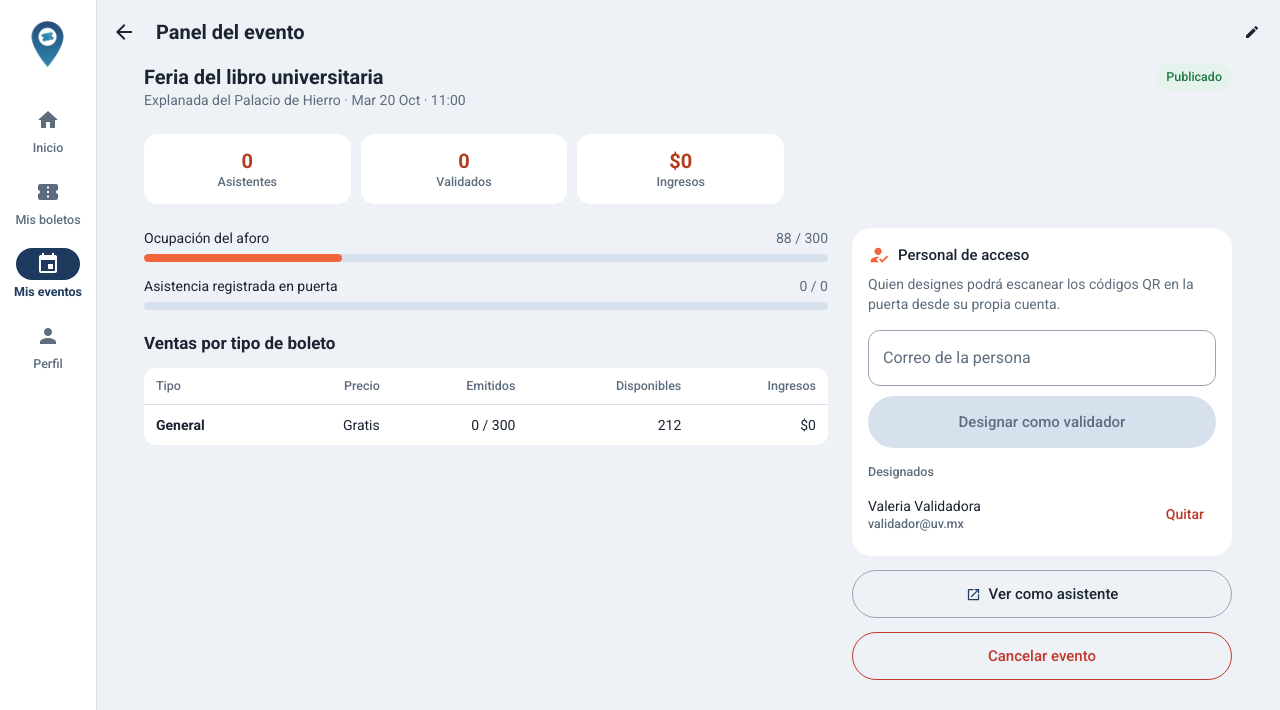
Test: organizador (RF-08, RF-13, RF-14, RF-17) › designa personal de acceso por correo
Type "asistente@uv.mx" into the field labelled "Correo de la persona". click: (1042, 358)
box: [869,331,1215,385]
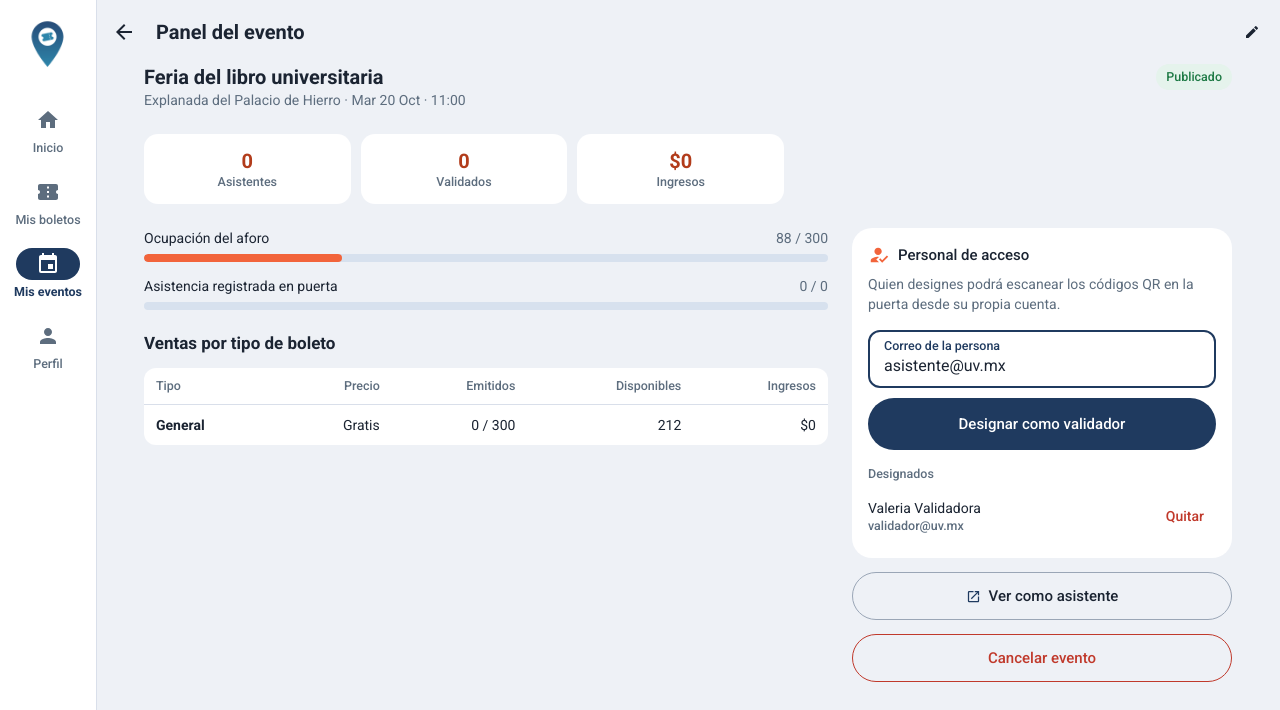
Click the button "Designar como validador". click: (1042, 424)
box: [868,398,1216,450]
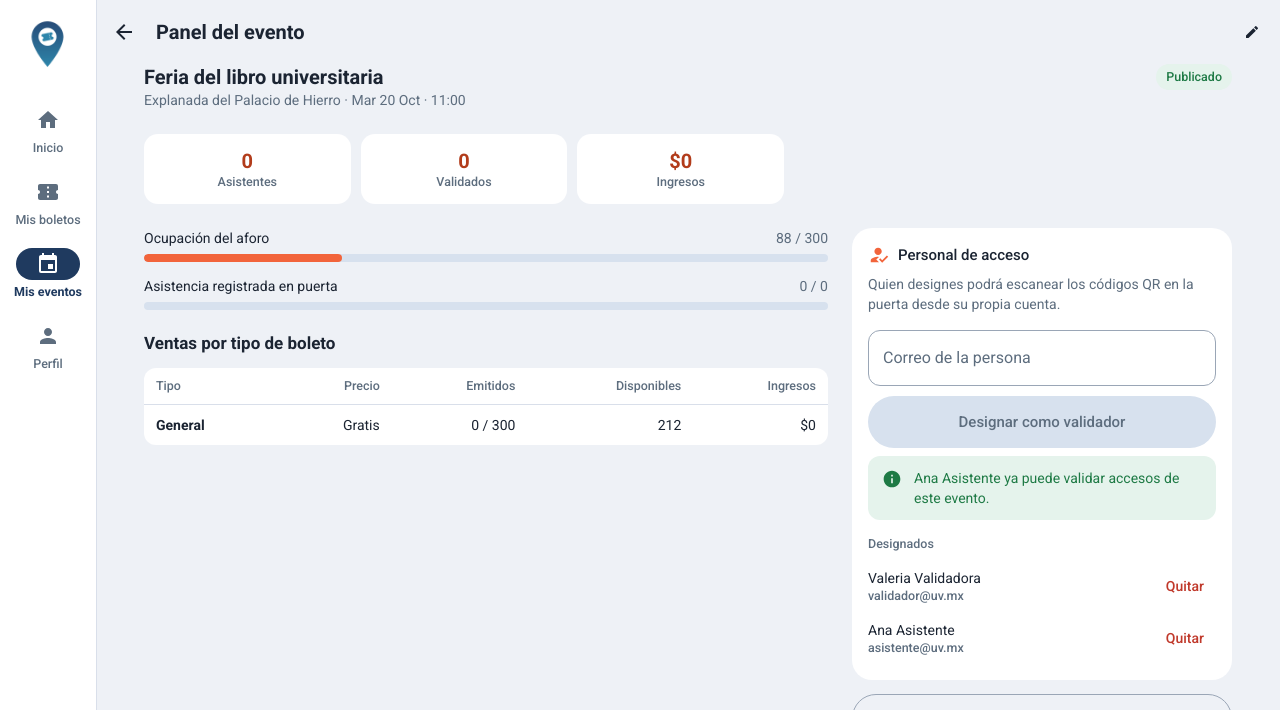
Check: the text "Ana Asistente ya puede validar accesos de este evento." is shown, box [914,468,1202,508]
